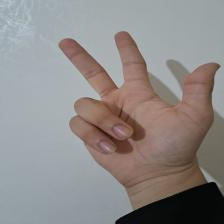three: (51, 31, 220, 180)
